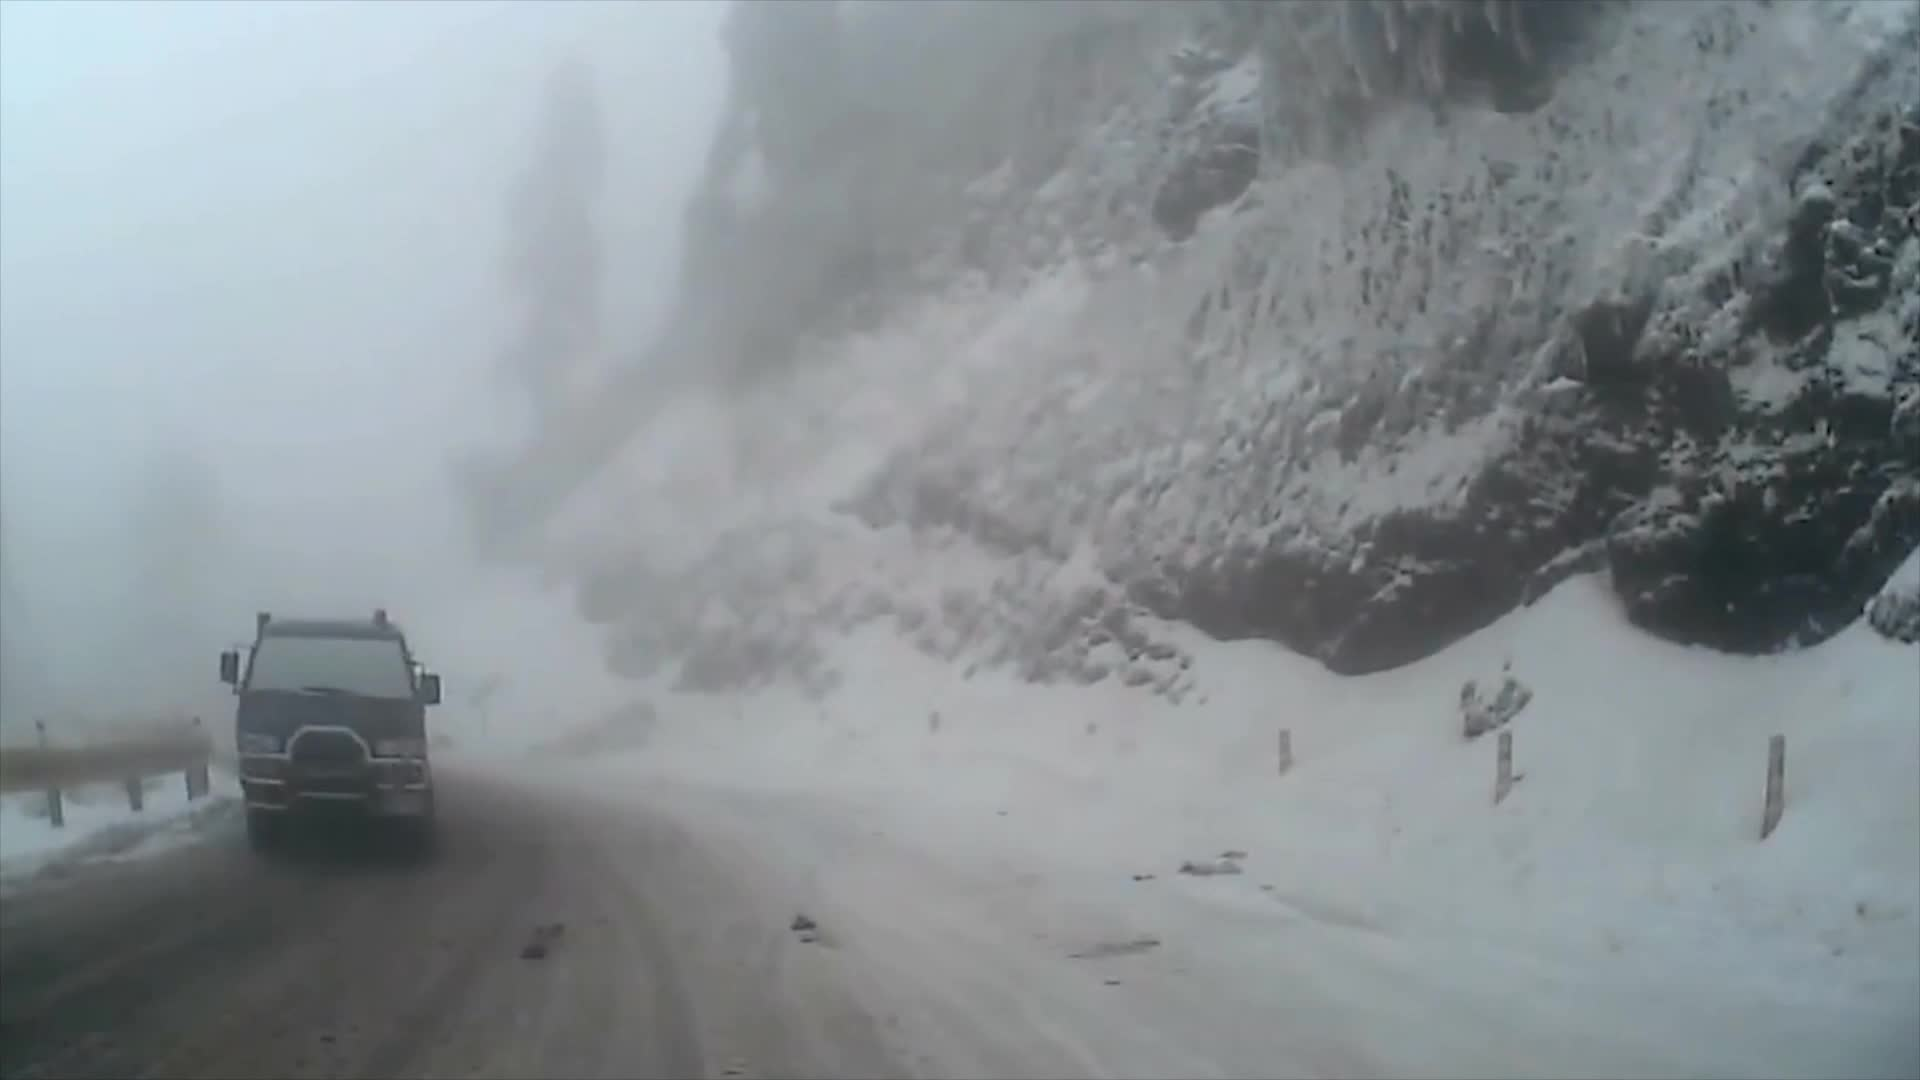vehicle: (214, 605, 440, 852)
